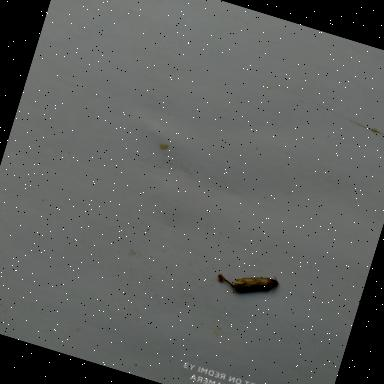pbw: (227, 262, 285, 304)
